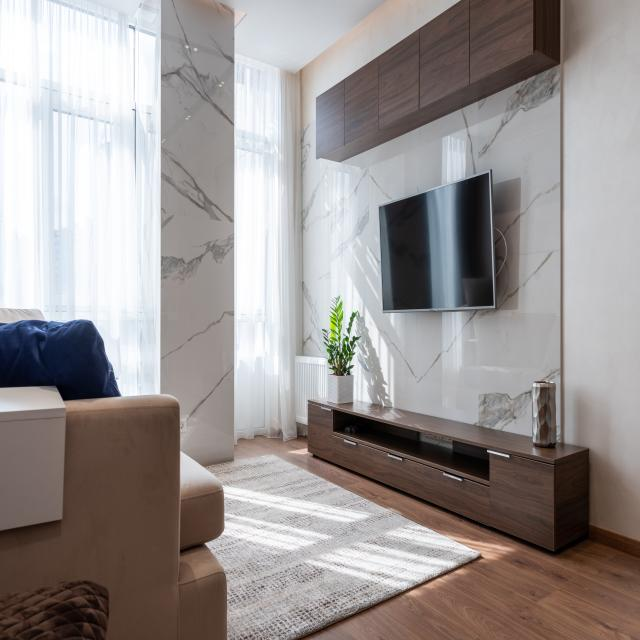floor: (234, 435, 640, 640)
wall: (300, 0, 561, 443), (560, 0, 640, 540), (160, 0, 235, 466), (378, 169, 498, 313), (136, 0, 161, 395)
